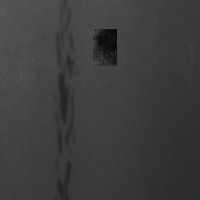inclusion: (51, 1, 80, 176), (51, 154, 74, 197)
patches: (93, 29, 117, 66)
